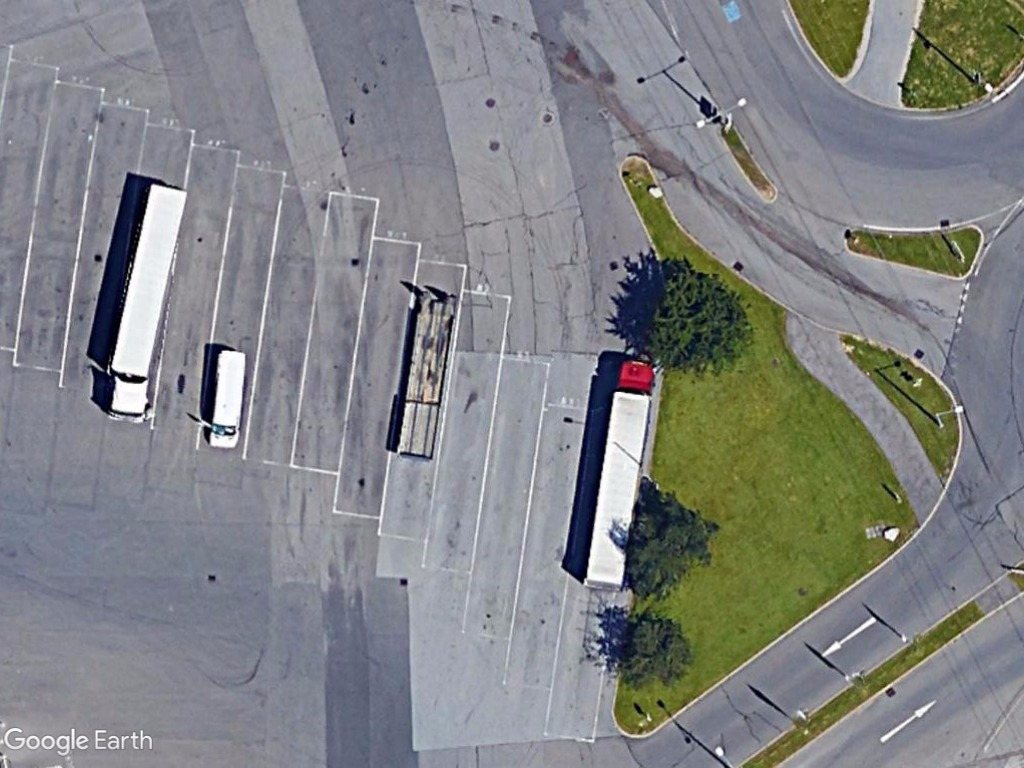longvehicle: (100, 173, 189, 424), (577, 348, 660, 598)
van: (201, 341, 252, 454)
